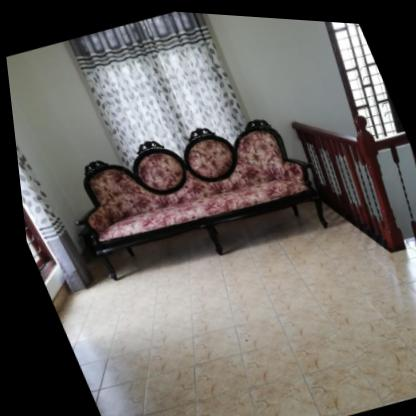Sofa: (39, 86, 340, 298)
